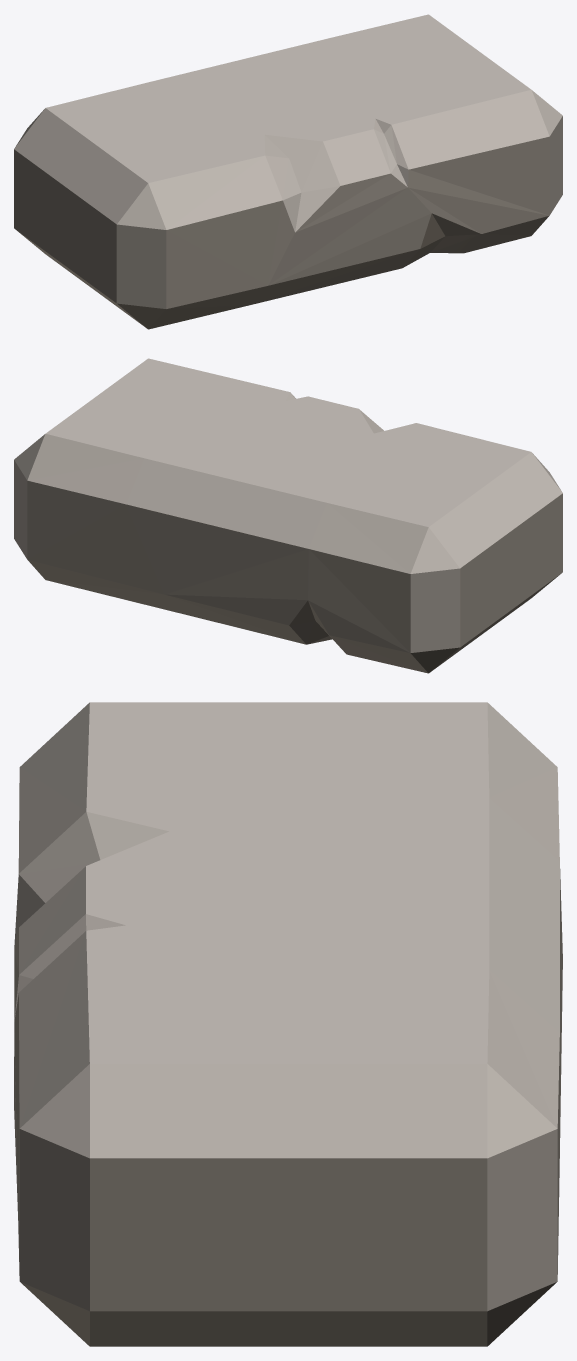
File: m_kub_stone_floorBrick.FBX
3 renders of one model, top to bottom at view 1: azimuth 30°, elevation 25°; view 2: azimuth 150°, elevation 25°; view 3: azimuth 270°, elevation 25°, orthographic. The views are drawn at different scales.
Visible parts, largest first — view 1: m_kub_stone_floorBrick; view 2: m_kub_stone_floorBrick; view 3: m_kub_stone_floorBrick.
Part boxes in pixels (box(x1,y1,x2,y2)): m_kub_stone_floorBrick: box(14, 14, 562, 329); m_kub_stone_floorBrick: box(14, 358, 562, 673); m_kub_stone_floorBrick: box(14, 702, 562, 1346).
Bounding box in the file's own units: 2.18 × 0.682 × 1.2.
